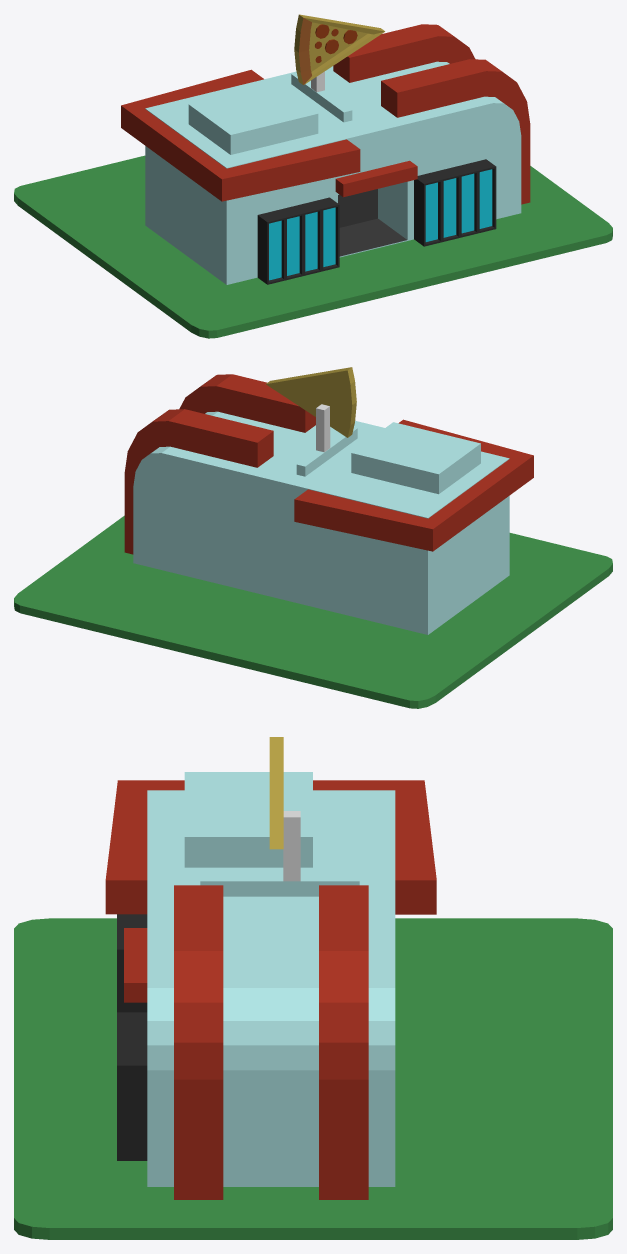
File: restuarant.fbx
3 renders of one model, top to bottom at view 1: azimuth 30°, elevation 25°; view 2: azimuth 150°, elevation 25°; view 3: azimuth 270°, elevation 25°, orthographic. The views are drawn at different scales.
Visible parts, largest first — view 1: Plane.006, Cube.064, Cube.065, Cube.066, Cube.067, Cube.068, Cube.069, Cylinder.011, Cube.072, Cube.070; view 2: Cube.064, Plane.006, Cube.065, Cube.066, Cube.067, Cylinder.011, Cube.070, Cube.108; view 3: Plane.006, Cube.064, Cube.065, Cube.066, Cube.067, Cube.069, Cube.070, Cube.072, Cylinder.011, Cube.068, Cube.108.
Boxes of the visible parts, x1,y1,x2,y2 form: Plane.006: [14, 155, 612, 338]; Cube.064: [145, 61, 521, 284]; Cube.065: [333, 24, 530, 204]; Cube.066: [121, 69, 360, 201]; Cube.067: [188, 83, 318, 154]; Cube.068: [257, 197, 339, 284]; Cube.069: [414, 159, 496, 246]; Cylinder.011: [294, 14, 384, 84]; Cube.072: [335, 160, 417, 197]; Cube.070: [291, 73, 352, 122]; Cube.064: [133, 411, 509, 634]; Plane.006: [14, 515, 612, 708]; Cube.065: [124, 374, 315, 554]; Cube.066: [294, 419, 533, 551]; Cube.067: [351, 422, 480, 494]; Cylinder.011: [266, 367, 356, 437]; Cube.070: [296, 427, 357, 476]; Cube.108: [316, 404, 330, 452]; Plane.006: [14, 918, 612, 1239]; Cube.064: [147, 790, 395, 1186]; Cube.065: [174, 885, 368, 1199]; Cube.066: [105, 780, 436, 914]; Cube.067: [184, 772, 312, 867]; Cube.069: [117, 1012, 147, 1160]; Cube.070: [200, 874, 359, 896]; Cube.072: [124, 928, 147, 1002]; Cylinder.011: [269, 737, 283, 849]; Cube.068: [117, 914, 147, 1012]; Cube.108: [283, 811, 300, 881].
Bounding box in the file's own units: 28.74 × 14.28 × 23.49.
